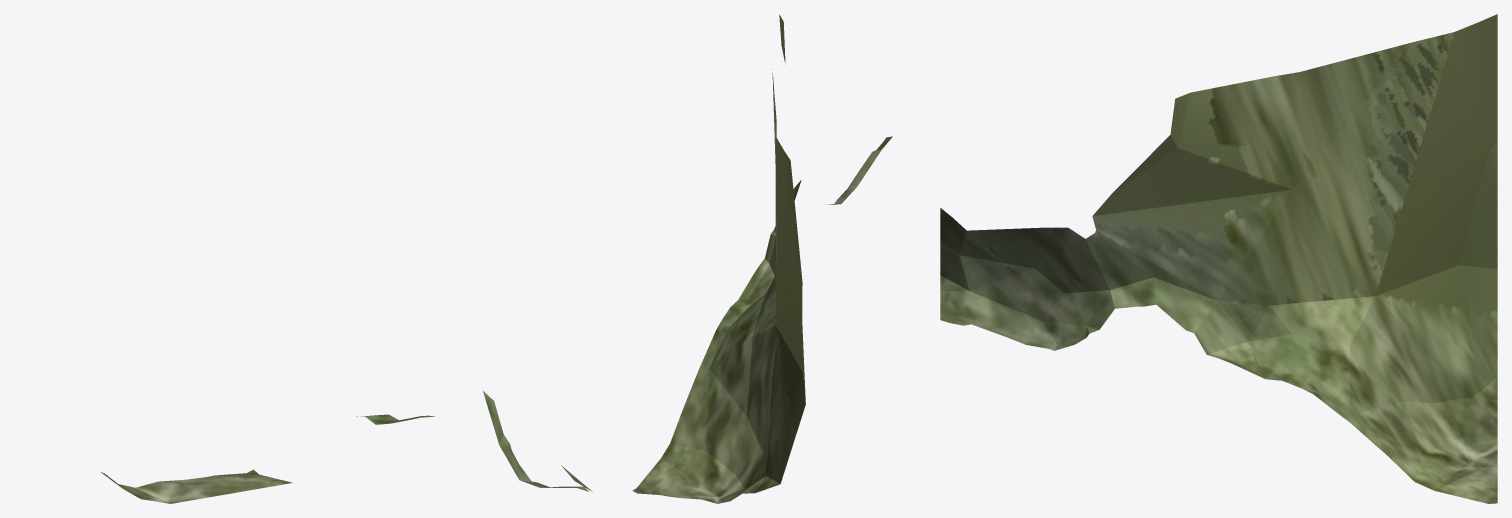
3 views of the same model, side by side, from view 1: azimuth 30°, elevation 25°; view 2: azimuth 150°, elevation 25°; view 3: azimuth 270°, elevation 25° (orthographic). The views are drawn at different scales.
Size of the model in its own units: 1.16 by 2.37 by 2.95.
Materials: 2 (2 with a texture image).
